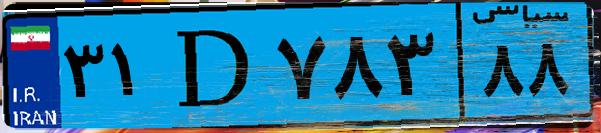1: (110, 28, 158, 98)
3: (385, 28, 445, 110), (57, 26, 110, 100)
7: (270, 28, 330, 110)
8: (330, 28, 385, 110), (475, 38, 525, 113), (525, 38, 570, 115)
D: (158, 12, 270, 120)
